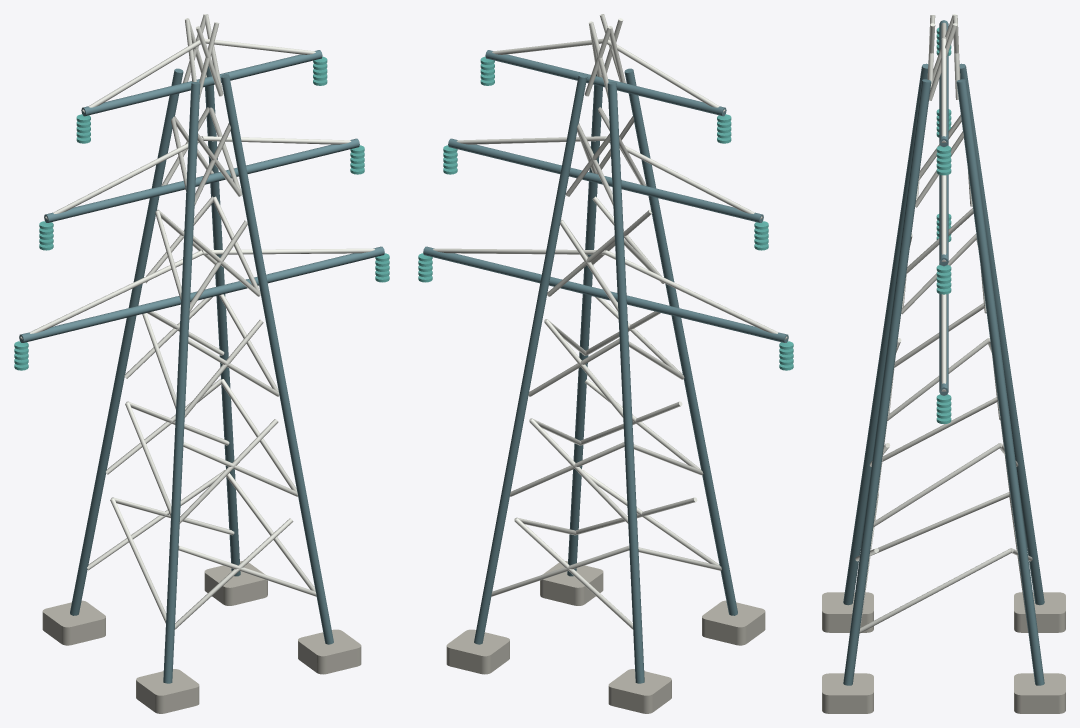
The model's file is grid-pylon-low.glb.
3 views of the same model, side by side, from view 1: azimuth 30°, elevation 25°; view 2: azimuth 150°, elevation 25°; view 3: azimuth 270°, elevation 25° (orthographic). The views are drawn at different scales.
Visible parts, largest first — view 1: tapered steel leg, lattice diagonal, pylon footing, ceramic insulator; view 2: tapered steel leg, lattice diagonal, pylon footing, ceramic insulator; view 3: tapered steel leg, lattice diagonal, pylon footing, ceramic insulator.
Part boxes in pixels (x1,y1,x2,y2): tapered steel leg: [19, 50, 384, 683]; lattice diagonal: [20, 14, 374, 629]; pylon footing: [42, 561, 361, 713]; ceramic insulator: [14, 56, 389, 370]; tapered steel leg: [423, 50, 788, 683]; lattice diagonal: [433, 14, 787, 629]; pylon footing: [446, 561, 765, 713]; ceramic insulator: [418, 56, 793, 370]; tapered steel leg: [843, 20, 1044, 685]; lattice diagonal: [855, 14, 1032, 633]; pylon footing: [822, 592, 1065, 713]; ceramic insulator: [936, 27, 951, 423].
Bounding box in the file's own units: 6 × 9.61 × 3.3.
